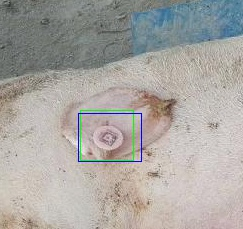text: (80, 110, 133, 160)
